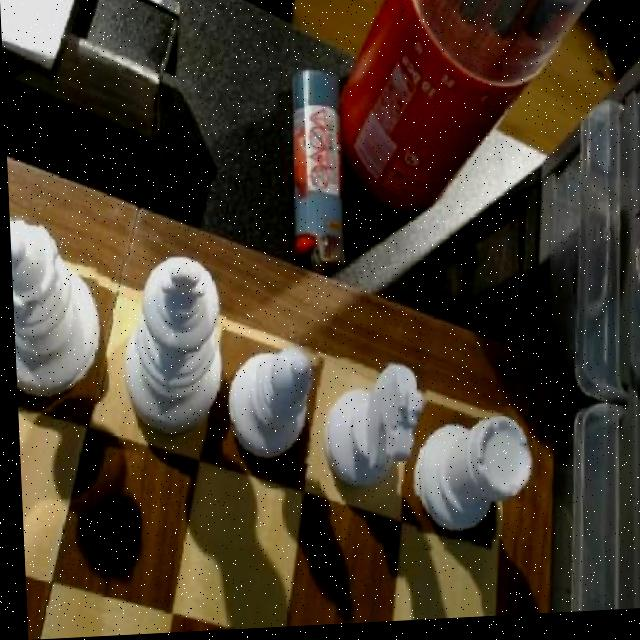black-rook: (216, 345, 317, 470)
white-bishop: (108, 253, 230, 451), (7, 204, 105, 412)
white-king: (308, 359, 426, 502)
white-queen: (401, 413, 532, 554)
